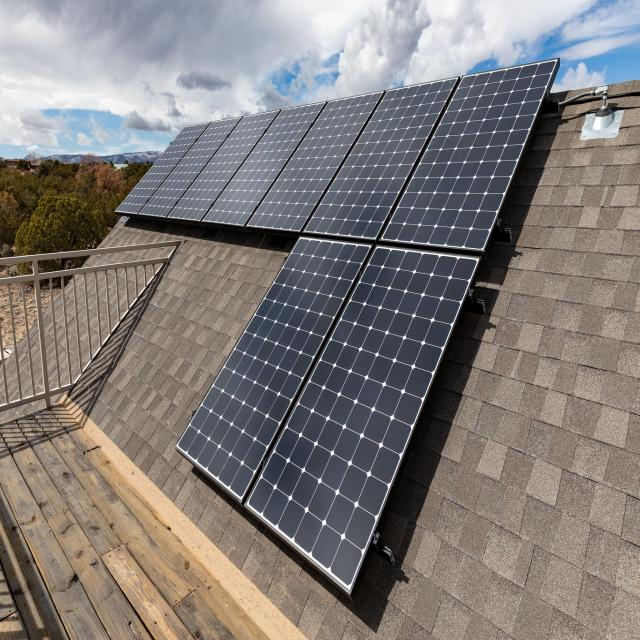clean-solar-panel: (178, 60, 559, 593), (116, 92, 382, 233)
